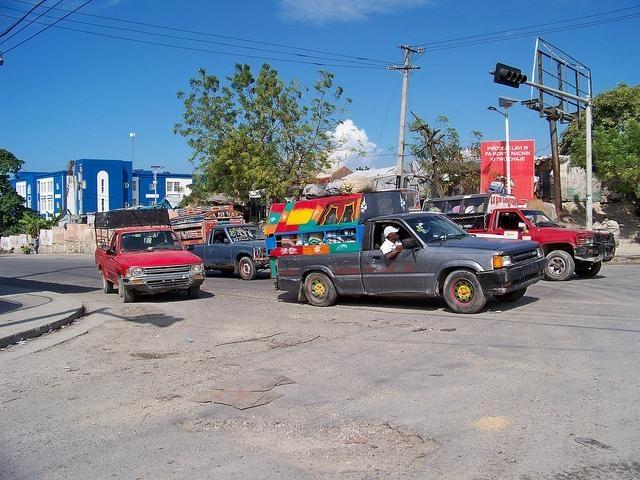truck: (274, 210, 550, 312), (444, 208, 617, 280), (98, 234, 204, 294), (178, 223, 268, 283)
